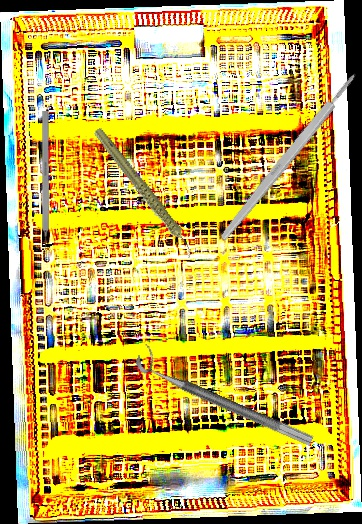Fixation Ring: (132, 342, 321, 448)
Handpiece: (92, 113, 195, 274)
Hook Surgical: (42, 111, 49, 257)
Scalpel Handle: (216, 70, 361, 244)
